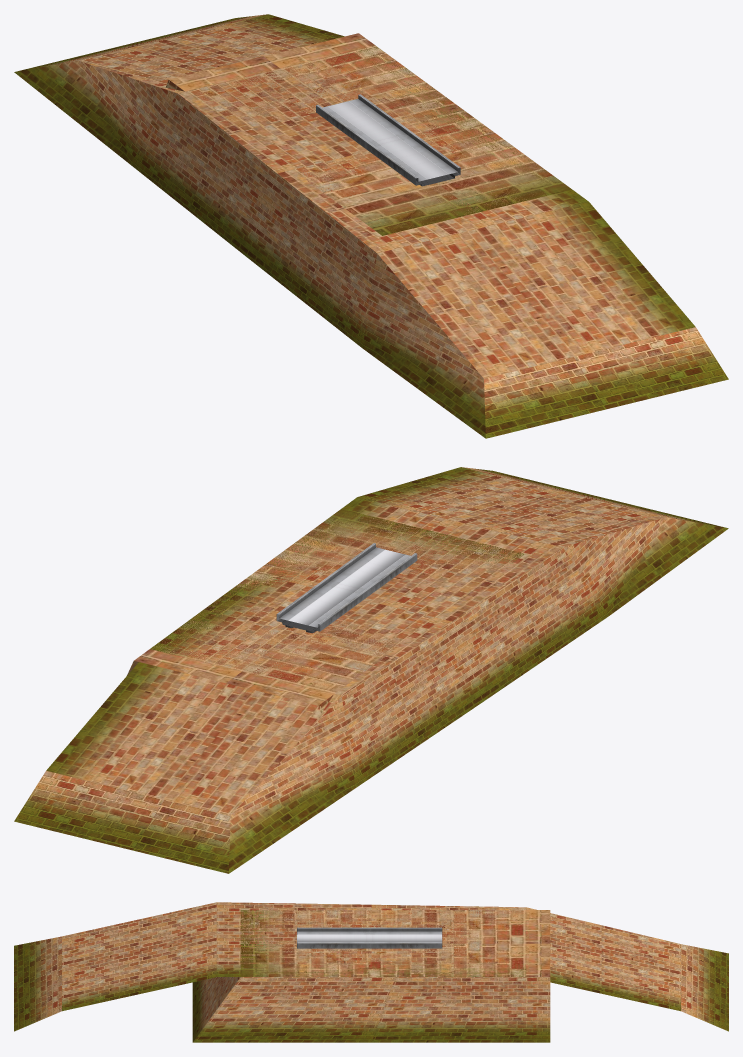
The model's file is Bridge.FBX.
3 renders of one model, top to bottom at view 1: azimuth 30°, elevation 25°; view 2: azimuth 150°, elevation 25°; view 3: azimuth 270°, elevation 25°, orthographic. The views are drawn at different scales.
Visible parts, largest first — view 1: Box043, Box038, Bridge_L2; view 2: Box043, Box038, Bridge_L2; view 3: Box043, Box038, Bridge_L2.
Boxes of the visible parts, left/top/right/bottom form: Box043: left=14, top=14, right=728, bottom=438; Box038: left=165, top=33, right=571, bottom=235; Bridge_L2: left=316, top=94, right=460, bottom=186; Box043: left=14, top=467, right=728, bottom=873; Box038: left=127, top=509, right=524, bottom=713; Bridge_L2: left=276, top=543, right=417, bottom=633; Box043: left=14, top=902, right=728, bottom=1031; Box038: left=192, top=910, right=550, bottom=1042; Bridge_L2: left=297, top=927, right=442, bottom=948.
Bounding box in the file's own units: 46.32 × 13.97 × 144.
